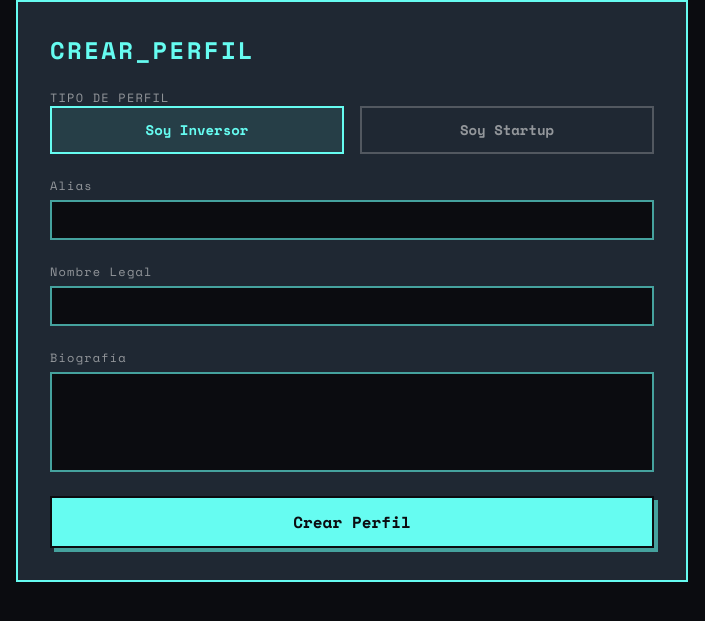
Test: RegistrationForm › blocks submission and shows an error when alias is empty
Click the button "Crear Perfil".
click(352, 522)  # box x1=50 y1=496 x2=654 y2=548
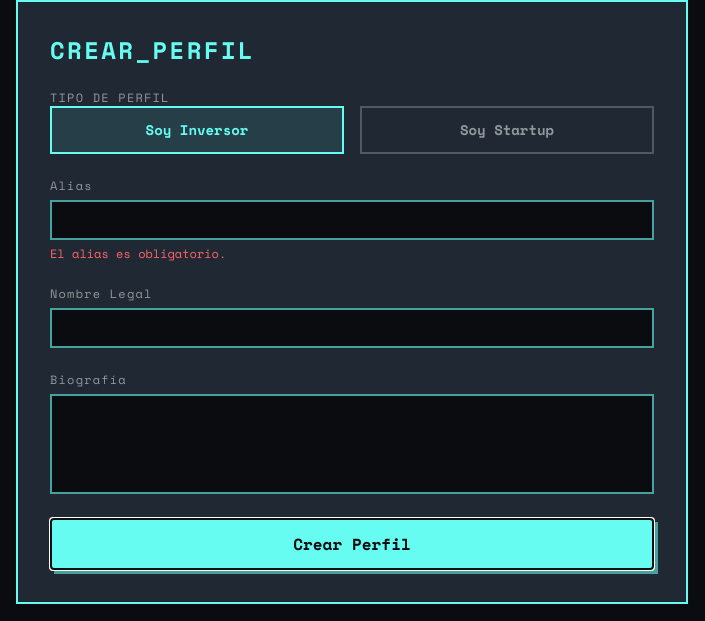
Expected: the message shows "alias es obligatorio", x1=50 y1=245 x2=226 y2=262
